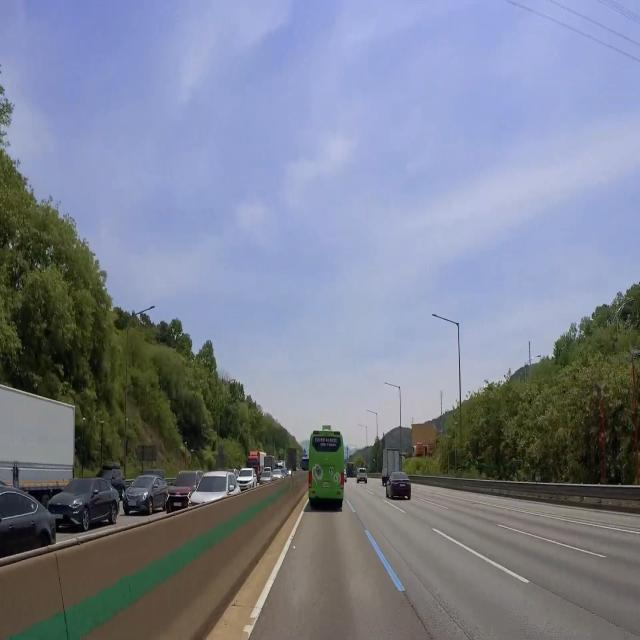car: (320, 480, 332, 492), (398, 482, 406, 490)
